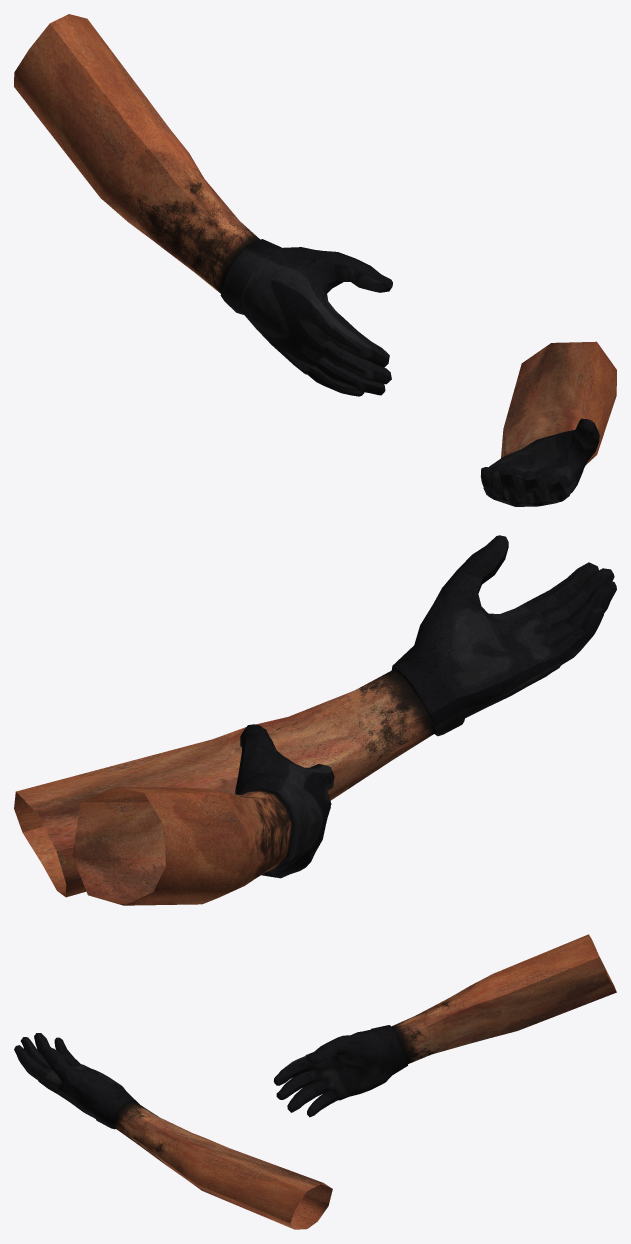
Rendered from css_hands.FBX.
3 views of the same model, one above another, from view 1: azimuth 30°, elevation 25°; view 2: azimuth 150°, elevation 25°; view 3: azimuth 270°, elevation 25° (orthographic). The views are drawn at different scales.
Visible parts, largest first — view 1: UA, 3), H1, H2, 1), 14), 2), F1a; view 2: 3), UA, 1), H1, 14), 2), H2; view 3: UA, 3), H1, 1), 14), H2, 2), F1a.
Boxes of the visible parts, bbox=[...] form: UA: bbox=[14, 14, 259, 293]; 3): bbox=[501, 341, 616, 464]; H1: bbox=[220, 239, 343, 354]; H2: bbox=[282, 291, 344, 374]; 1): bbox=[488, 430, 599, 506]; 14): bbox=[483, 418, 599, 502]; 2): bbox=[488, 462, 575, 506]; F1a: bbox=[347, 258, 392, 292]; 3): bbox=[14, 669, 436, 897]; UA: bbox=[72, 786, 293, 905]; 1): bbox=[392, 585, 525, 736]; H1: bbox=[235, 734, 324, 878]; 14): bbox=[444, 535, 616, 665]; 2): bbox=[488, 600, 560, 686]; H2: bbox=[292, 766, 331, 873]; UA: bbox=[391, 934, 616, 1063]; 3): bbox=[112, 1102, 332, 1229]; H1: bbox=[336, 1025, 407, 1093]; 1): bbox=[56, 1069, 139, 1129]; 14): bbox=[14, 1033, 80, 1082]; H2: bbox=[305, 1052, 359, 1100]; 2): bbox=[38, 1064, 93, 1093]; F1a: bbox=[306, 1041, 337, 1064].
Bounding box in the file's own units: 13.54 × 11.19 × 29.95.
Materials: 34 (34 with a texture image).
